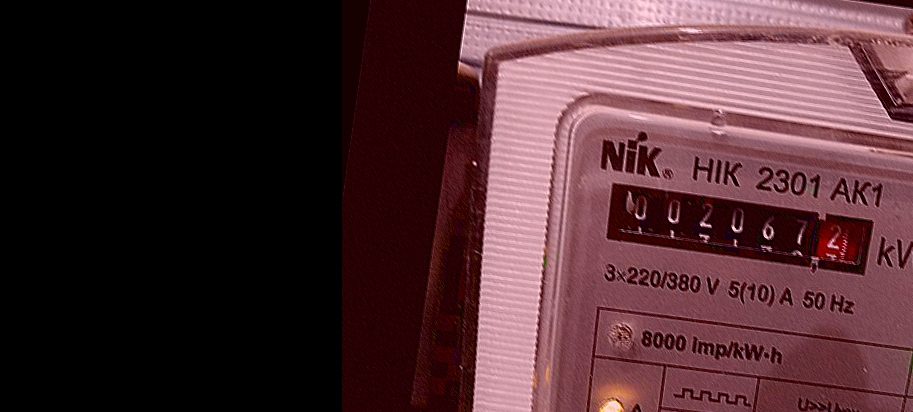0: (630, 191, 652, 222), (727, 203, 749, 233), (664, 194, 685, 225)
2: (824, 219, 846, 251), (697, 198, 718, 230)
6: (759, 210, 781, 241)
7: (791, 215, 811, 247)
screen: (590, 167, 891, 289)
